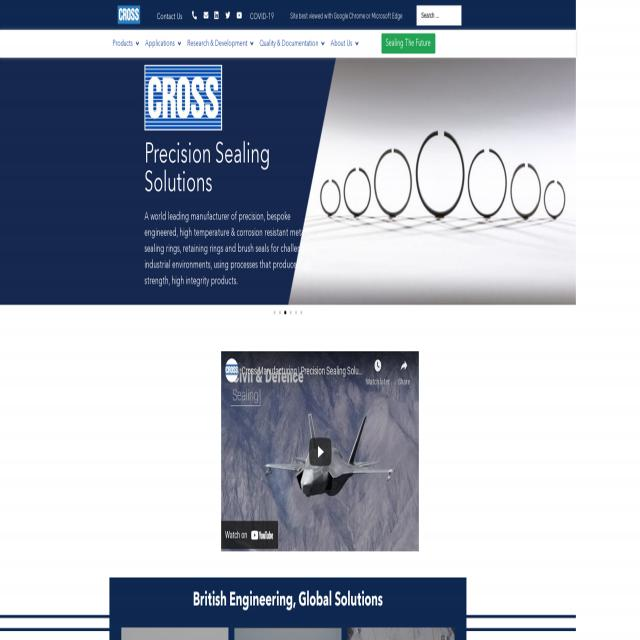button: (221, 352, 417, 551), (144, 65, 222, 130), (184, 32, 256, 55), (256, 32, 328, 55), (120, 626, 228, 640), (348, 627, 456, 640), (234, 628, 342, 640), (381, 33, 435, 54), (142, 32, 184, 55), (363, 358, 391, 390), (328, 32, 362, 55), (110, 32, 142, 55), (309, 437, 332, 466), (397, 357, 412, 390), (117, 4, 140, 24), (226, 360, 238, 382), (157, 12, 183, 22), (250, 12, 274, 22), (202, 9, 210, 23), (212, 9, 220, 23), (224, 9, 232, 23), (191, 9, 198, 23), (236, 9, 243, 23), (294, 310, 298, 315), (283, 310, 287, 315), (278, 310, 282, 315), (273, 310, 276, 316), (300, 310, 303, 315), (290, 310, 292, 315)
field: (416, 6, 462, 26)
